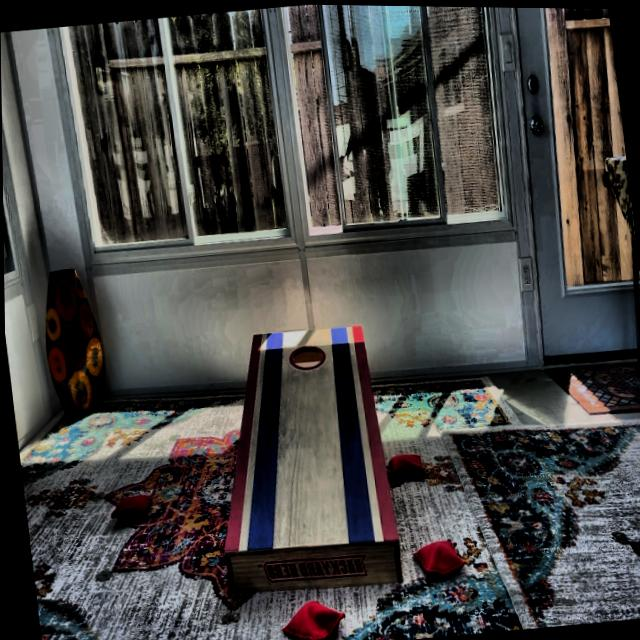board: (237, 323, 389, 553)
hole: (285, 341, 326, 371)
red-bean-bag: (277, 593, 346, 640), (409, 534, 466, 580), (106, 490, 151, 522), (386, 450, 424, 479)
